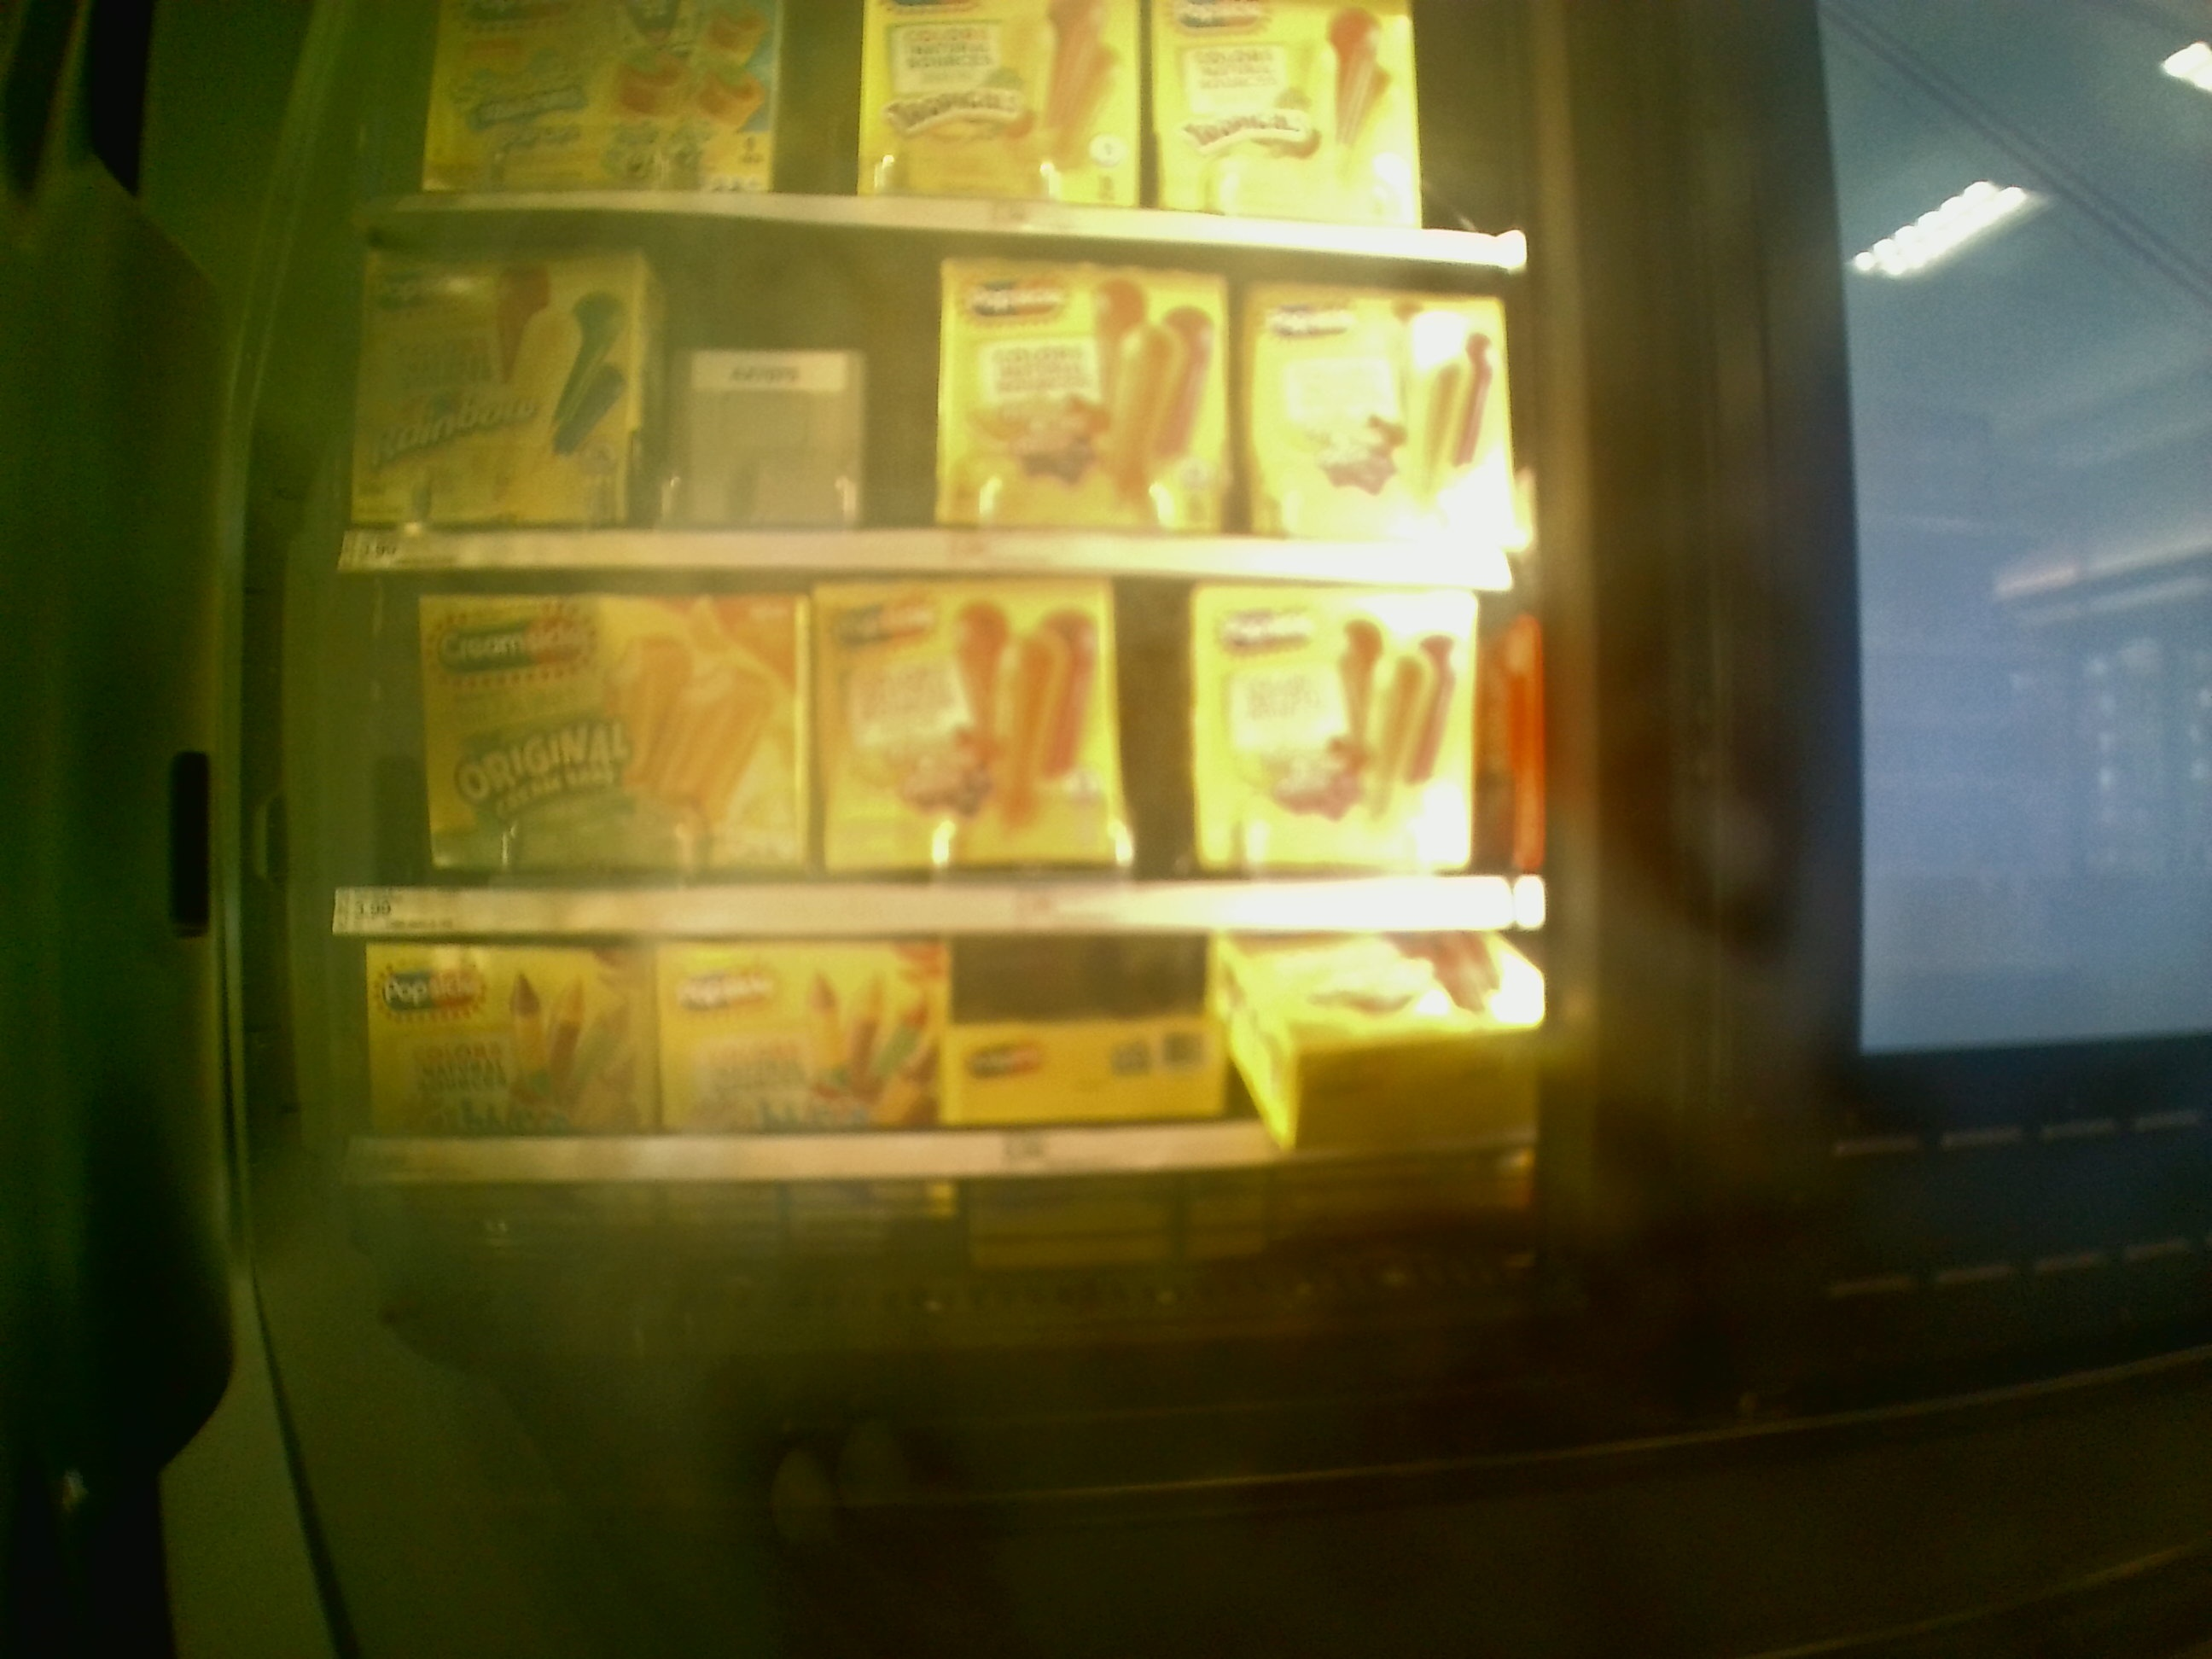frozen-food-shelf: (315, 575, 1550, 934), (314, 934, 1555, 1190)
